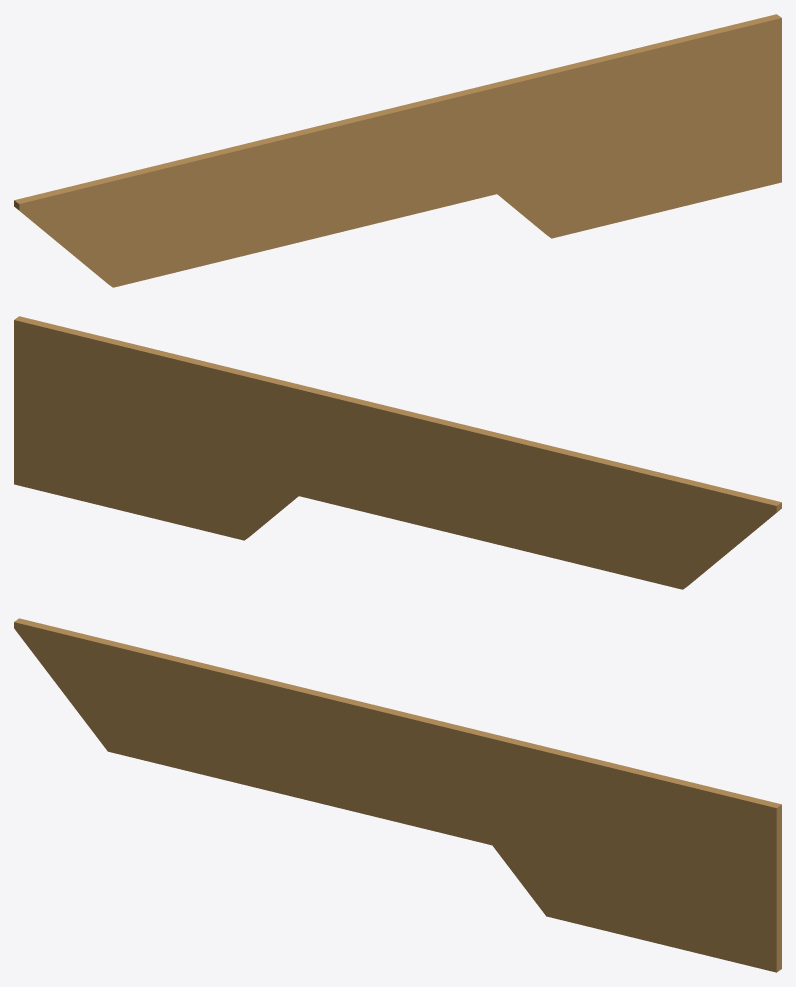
3 views of the same model, one above another, from view 1: azimuth 30°, elevation 25°; view 2: azimuth 150°, elevation 25°; view 3: azimuth 330°, elevation 25° (orthographic).
Parts seen in each view (by area): view 1: shape; view 2: shape; view 3: shape.
Part boxes in pixels (<box>): shape: <box>14,14,781,287</box>; shape: <box>14,316,781,589</box>; shape: <box>14,618,781,972</box>.
Size of the model in its own units: 12.7 by 2.62 by 0.15.
